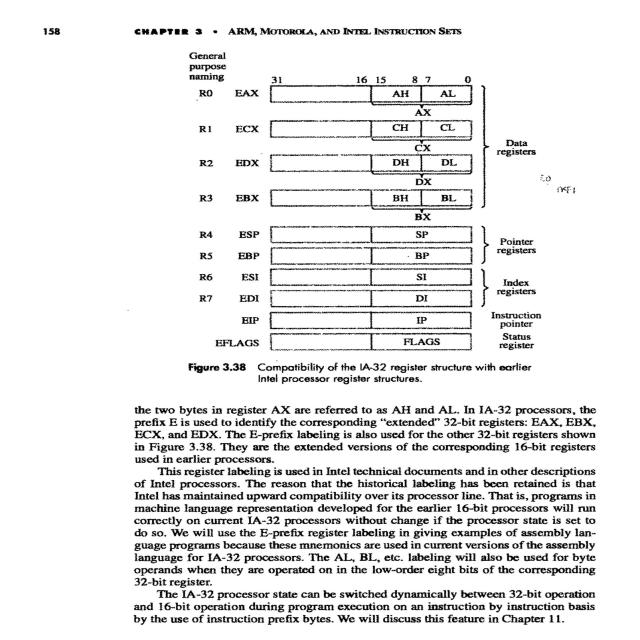diagram: (162, 42, 564, 393)
